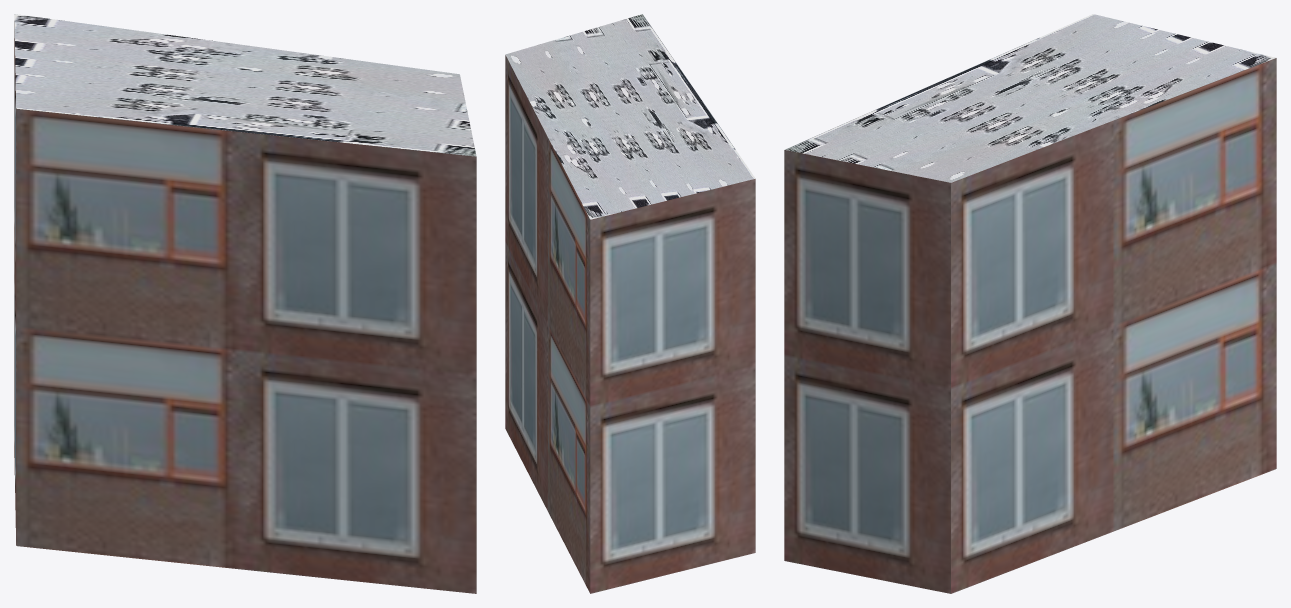
Rendered from ResTex__5178.fbx.
3 renders of one model, left to right at view 1: azimuth 30°, elevation 25°; view 2: azimuth 150°, elevation 25°; view 3: azimuth 270°, elevation 25°, orthographic. The views are drawn at different scales.
Parts seen in each view (by area): view 1: CityEngineMaterial_19_m, CityEngineMaterial_15_m; view 2: CityEngineMaterial_19_m, CityEngineMaterial_15_m; view 3: CityEngineMaterial_19_m, CityEngineMaterial_15_m.
Boxes of the visible parts, x1,y1,x2,y2 form: CityEngineMaterial_19_m: (14, 21, 476, 593); CityEngineMaterial_15_m: (14, 14, 476, 156); CityEngineMaterial_19_m: (505, 55, 755, 593); CityEngineMaterial_15_m: (505, 14, 755, 219); CityEngineMaterial_19_m: (784, 58, 1276, 593); CityEngineMaterial_15_m: (785, 14, 1275, 182).
Size of the model in its own units: 5.29 by 6 by 6.51.
Materials: 2 (2 with a texture image).
